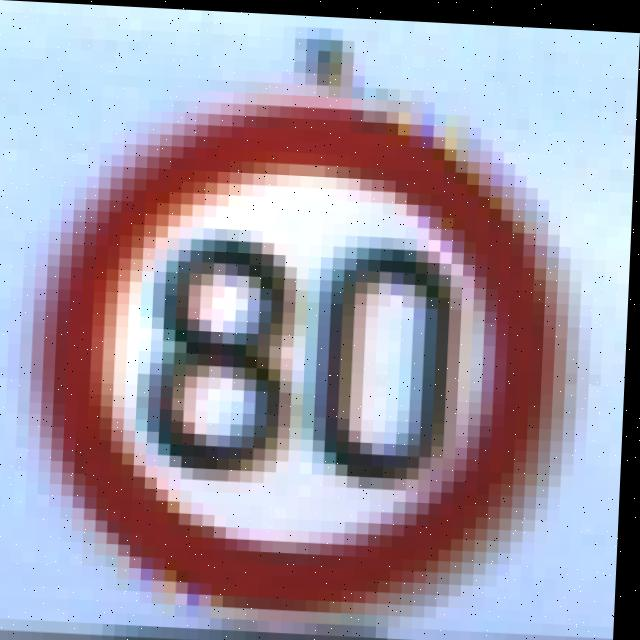speed_limit_80: (37, 69, 574, 619)
